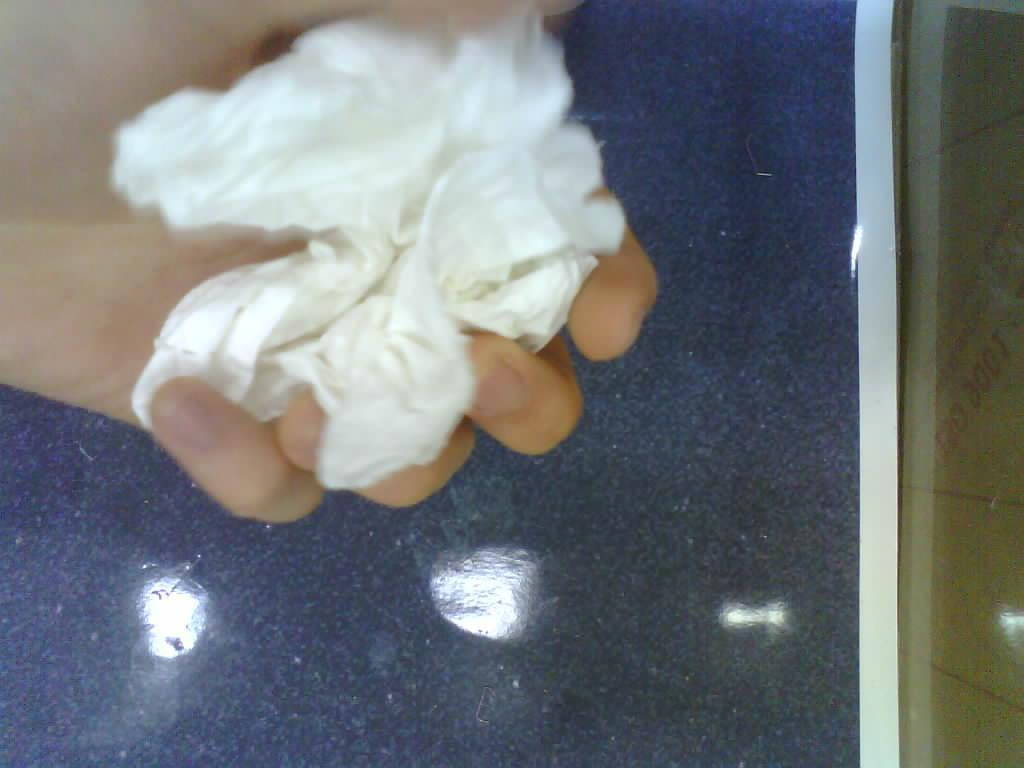paper: (112, 10, 626, 488)
